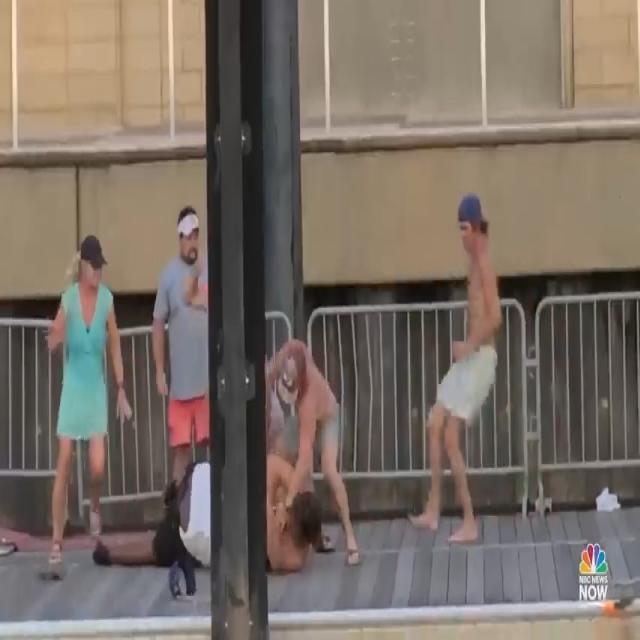fight: (94, 193, 368, 584)
non-fight: (30, 174, 136, 570), (405, 181, 506, 546)
